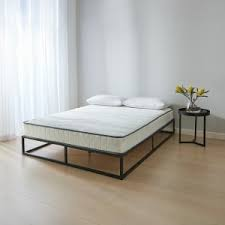bed-matress: (21, 103, 177, 154)
